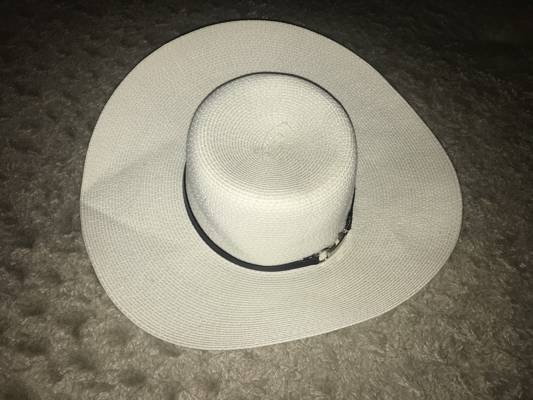Hat: (69, 1, 480, 370)
